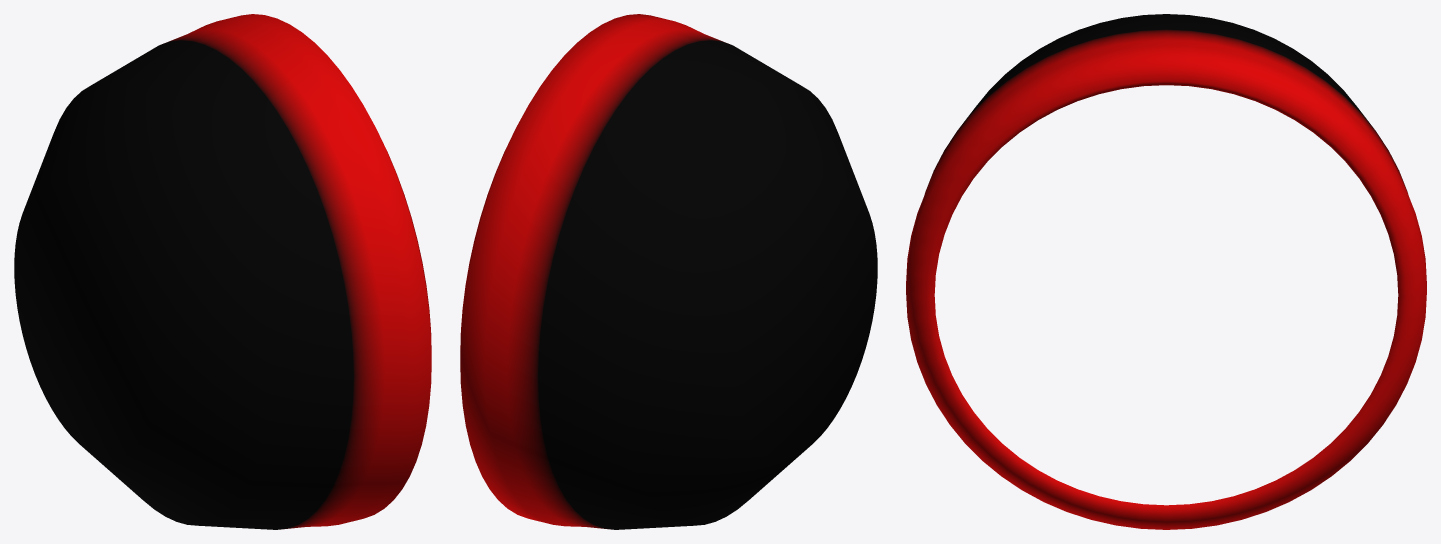
File: headlight_shell.glb
3 renders of one model, left to right at view 1: azimuth 30°, elevation 25°; view 2: azimuth 150°, elevation 25°; view 3: azimuth 270°, elevation 25°, orthographic.
Parts seen in each view (by area): view 1: headlight_shell; view 2: headlight_shell; view 3: headlight_shell.
Part boxes in pixels (x1,y1,x2,y2): headlight_shell: (14,14,431,529); headlight_shell: (460,14,877,529); headlight_shell: (906,14,1426,529).
Size of the model in its own units: 0.094 by 0.182 by 0.182.
